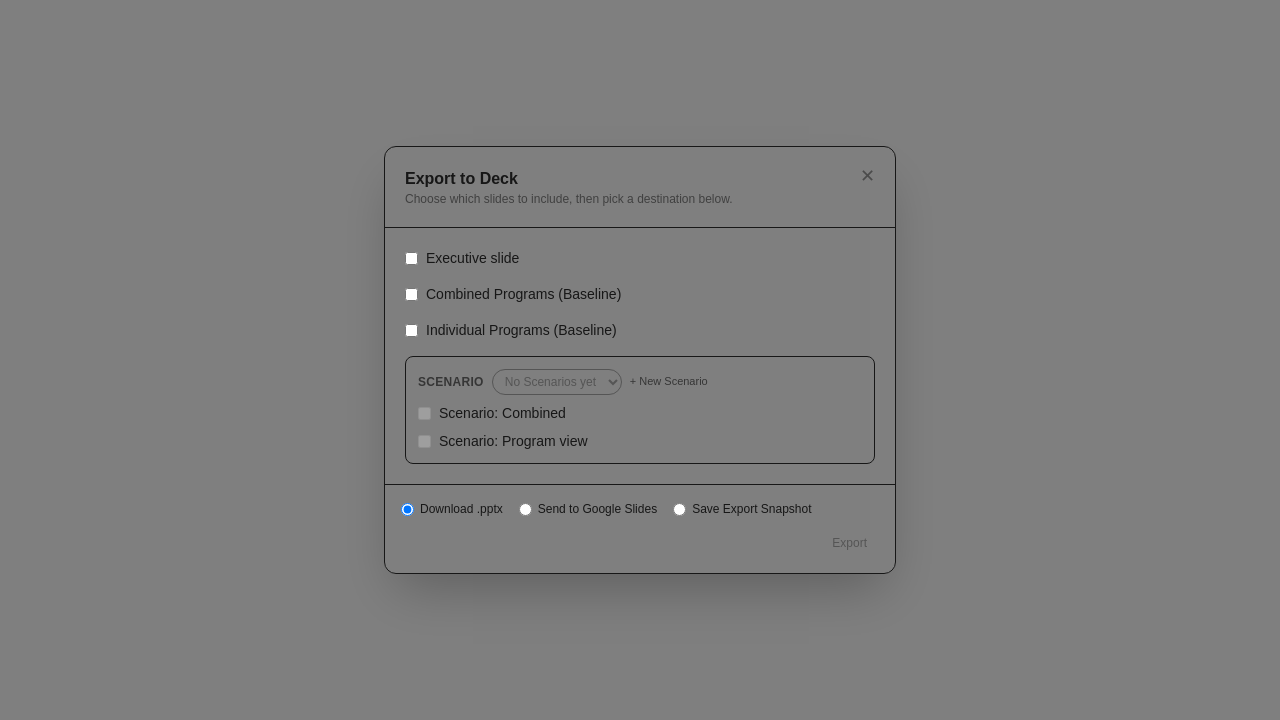
Test: ExportDialog (t29/t30) › Send to Google Slides — valid token, remembered folder — posts the IR and shows a success link without closing
What coordinates should you click on to do the following:
click the checkbox labelled "Executive slide"
I would click on:
 (412, 258)
Its box is [405,252,418,264].
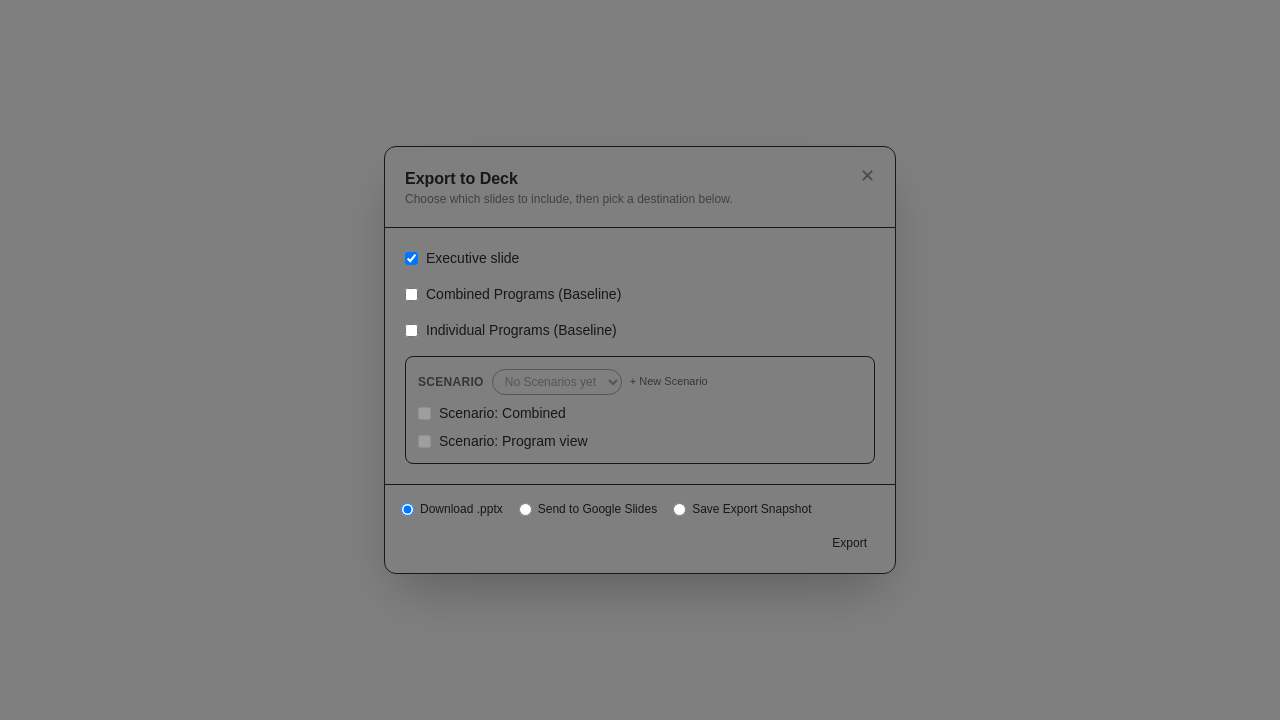
What coordinates should you click on to do the following:
click the radio button labelled "Send to Google Slides"
I would click on:
 (525, 509)
Its box is [519,502,532,516].
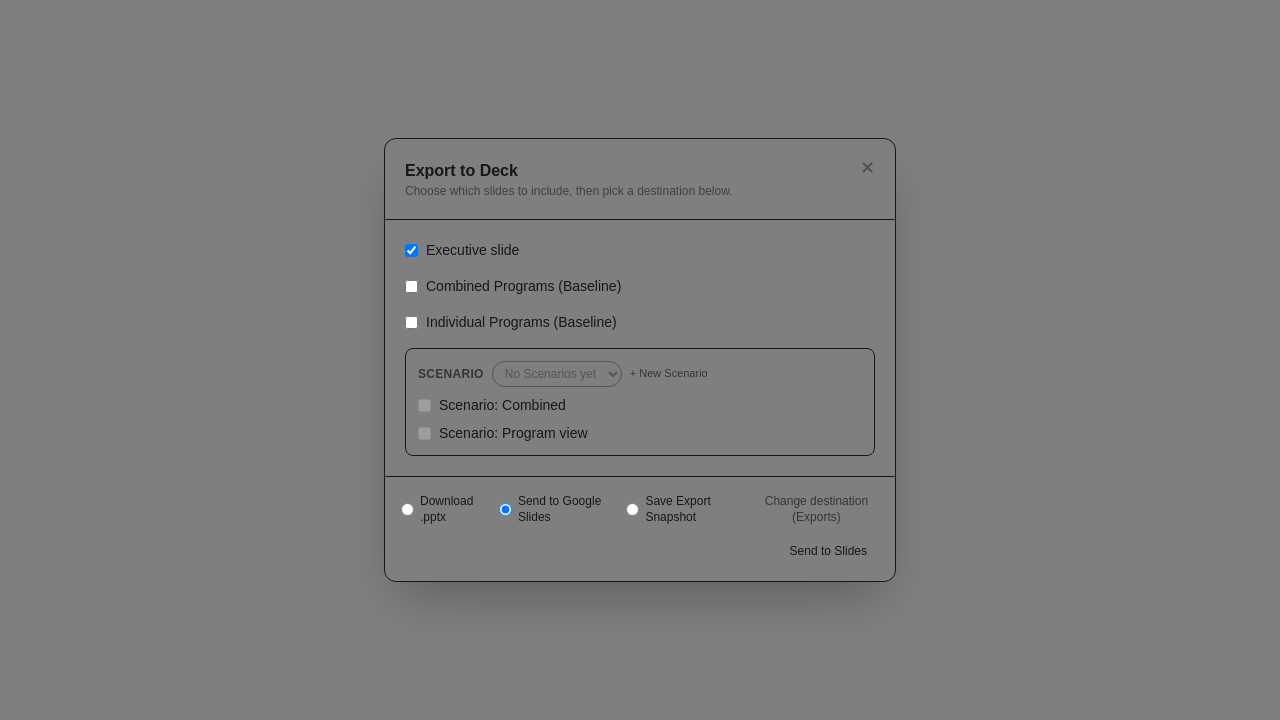
Check: the button "Change destination (Exports)" is shown, box [754,493,879,525]
What coordinates should you click on to do the following:
click the button "Send to Slides"
I would click on:
 (828, 551)
Its box is [778,537,879,565].
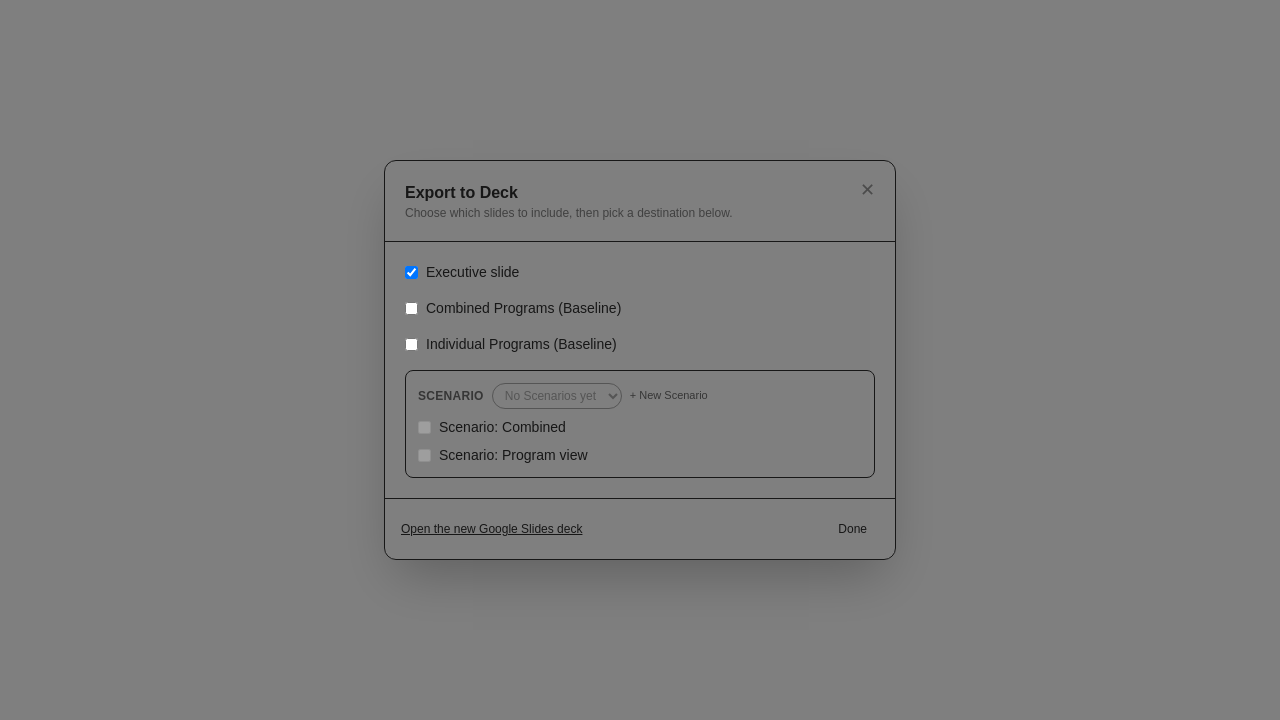
Check: the link "Open the new Google Slides deck" is shown, box [401,521,582,537]
